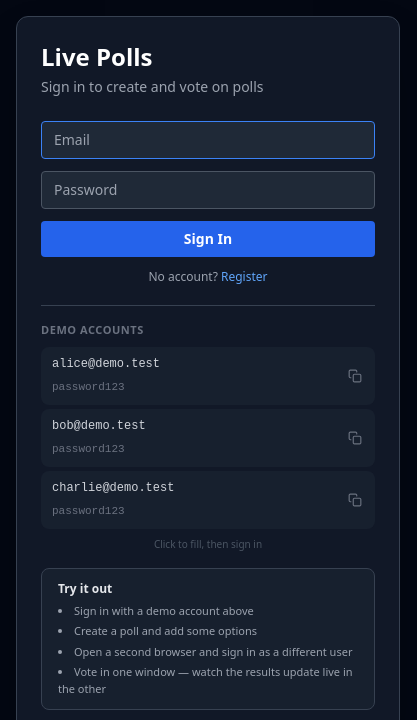
Test: AuthForm › can switch to register mode via the Register link
Click the button "Register" at (244, 277), box [221,269,268,285]
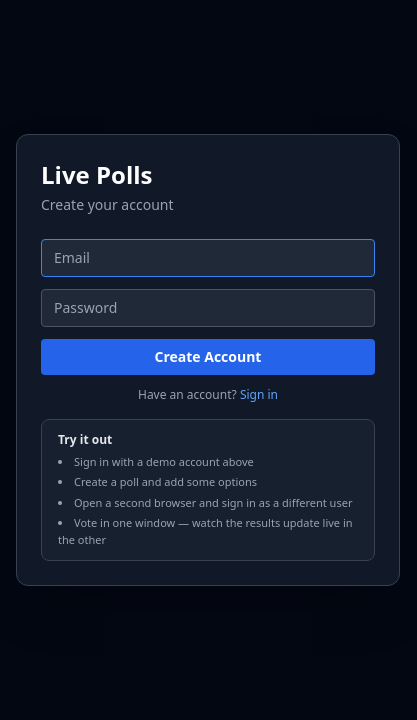
Check: the button "Create Account" is shown, box [41,339,375,375]
Check: the button "alice@demo.test" is gone
